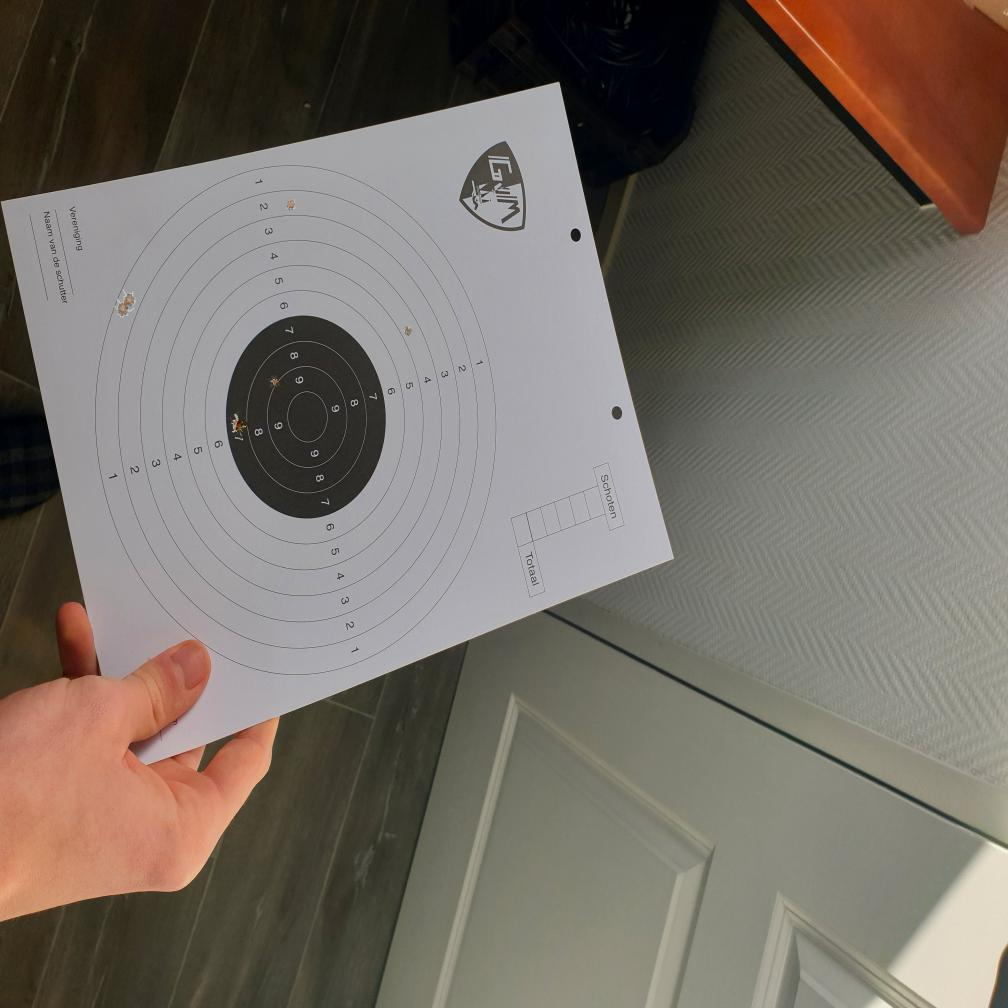1: (113, 300, 134, 317), (122, 288, 137, 307)
2: (285, 198, 297, 212)
4: (404, 324, 412, 338)
8: (229, 411, 249, 439)
9: (268, 375, 280, 389)
Target: (94, 165, 498, 665)
black_contour: (225, 314, 386, 519)
